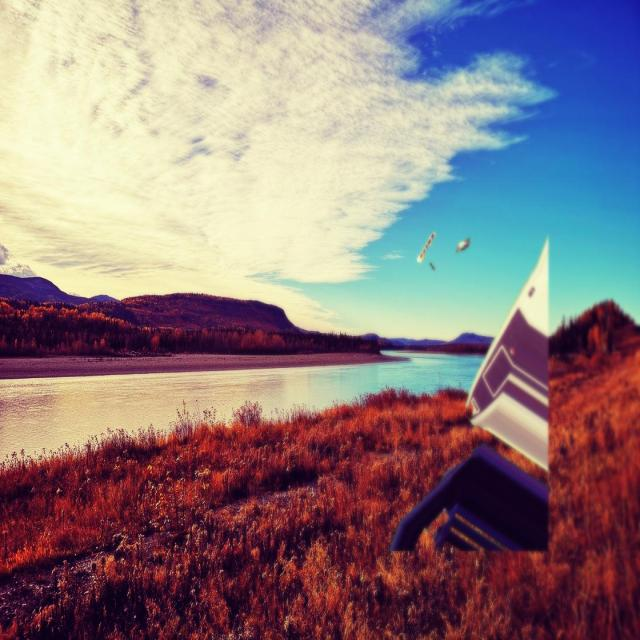airplane: (388, 236, 550, 554)
